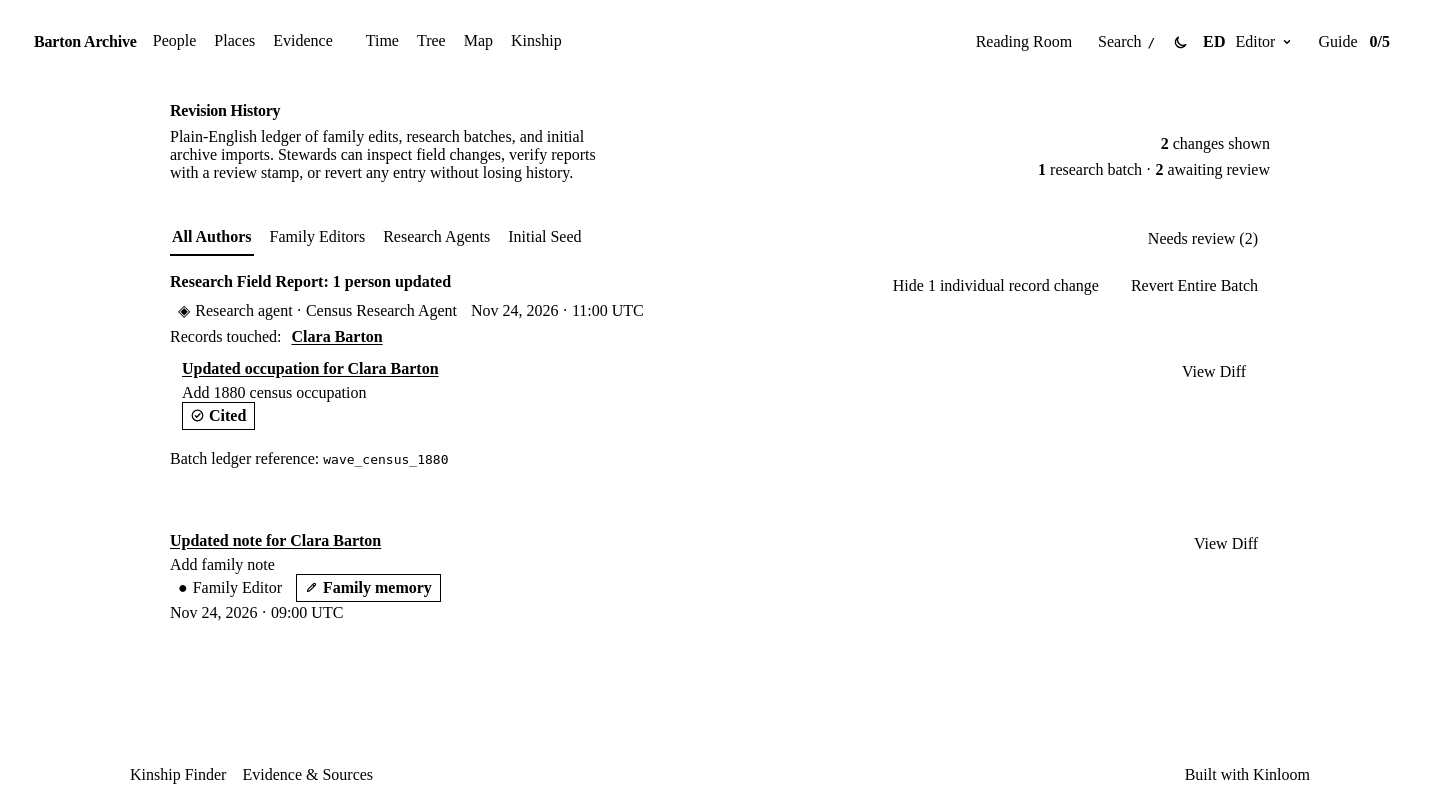
Wiki UI components and tree display polish helpers › filters RecentChangesPage by author_type and triggers one-click Batch Revert
Later steps or results of the test are not shown.
Click the tab "Research Agents". click: [437, 239]
box: [381, 222, 492, 256]
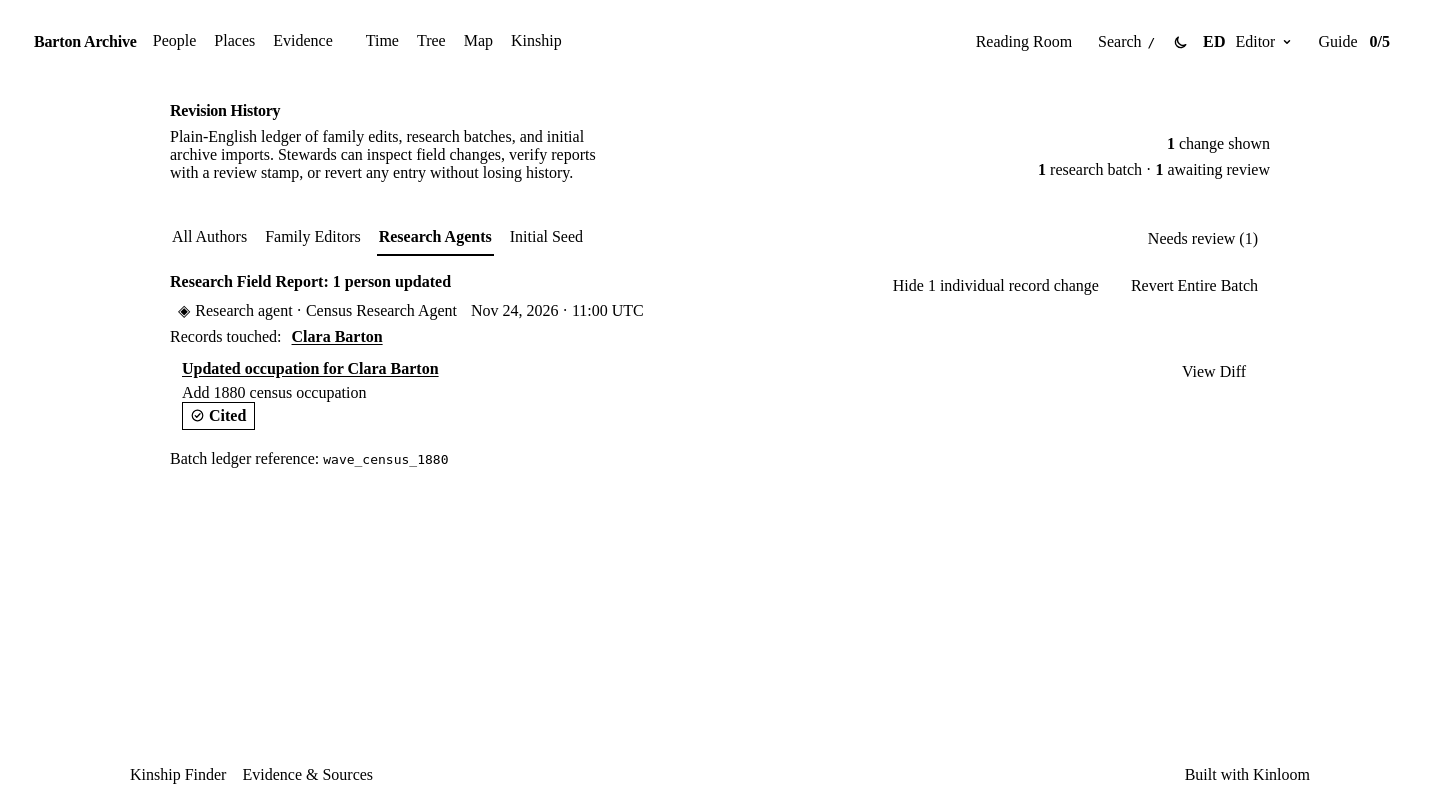
Expected: the text "Research Field Report: 1 person updated" is shown, [170, 273, 451, 290]
Expected: the text "Add family note" is gone
Click the button "Revert Entire Batch". click: [1194, 286]
box: [1119, 272, 1270, 300]
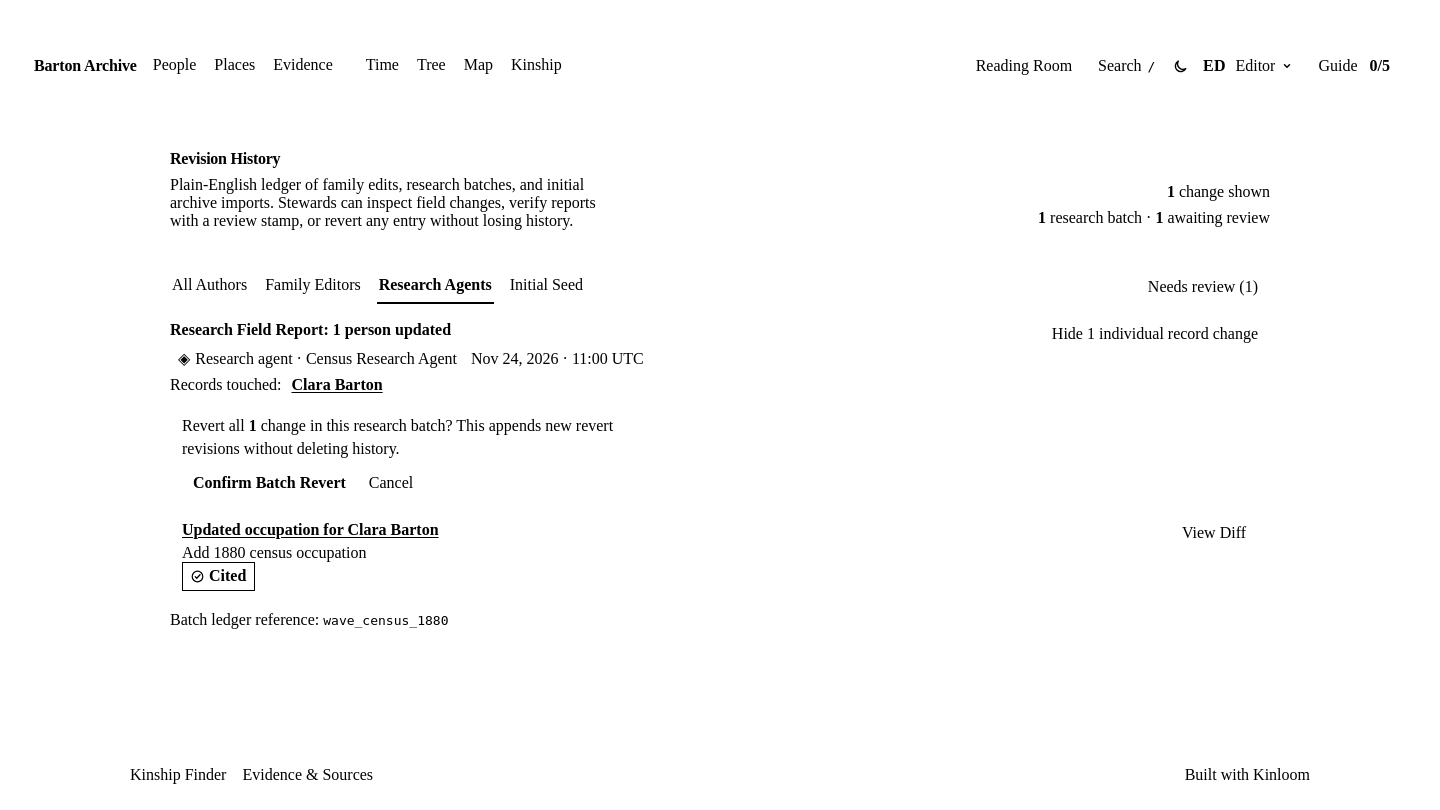
Expected: the button "Confirm Batch Revert" is shown, [182, 469, 357, 497]
